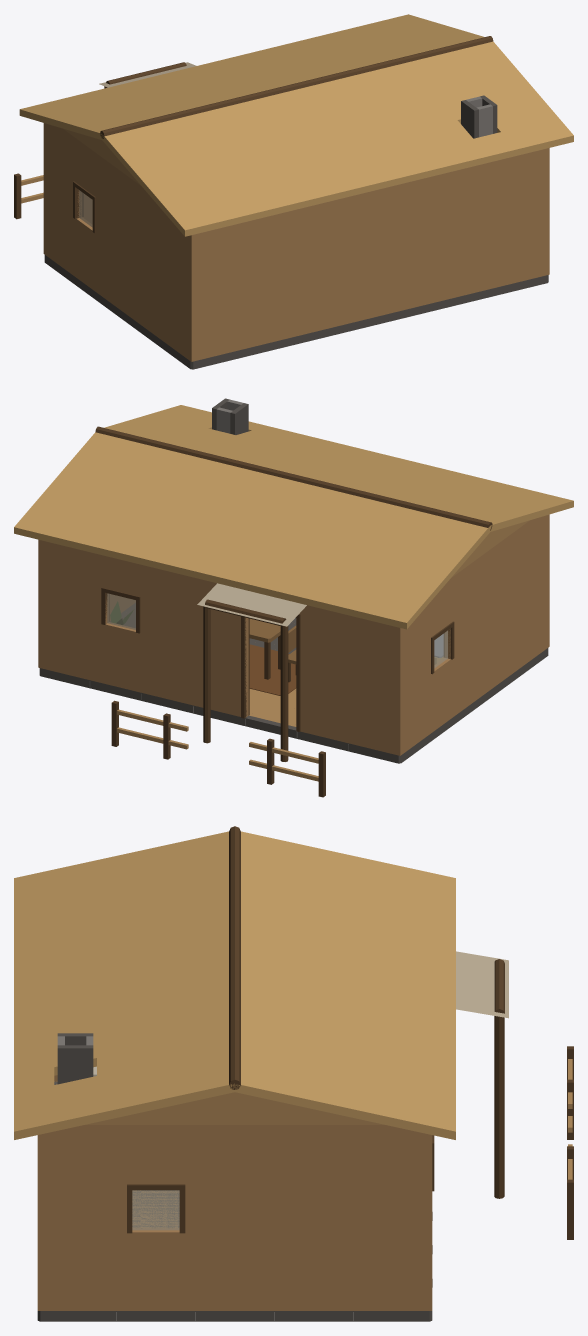
File: SM_CASA_05_CASA_VECINO_ALTA.glb
The picture shows the model from 3 angles, top to bottom: view 1: azimuth 30°, elevation 25°; view 2: azimuth 150°, elevation 25°; view 3: azimuth 270°, elevation 25°; orthographic projection. The views are drawn at different scales.
Visible parts, largest first — view 1: SM_Techo_Izq, SM_Pared_Norte, SM_Pared_Oeste, SM_Techo_Der, SM_Cimiento, SM_Cumbrera, SM_Cocina, SM_Portico, SM_Valla_Patio, SM_Pared_Sur; view 2: SM_Techo_Der, SM_Pared_Sur, SM_Pared_Oeste, SM_Techo_Izq, SM_Cimiento, SM_Portico, SM_Valla_Patio, SM_Cumbrera, SM_Suelo, SM_Cocina, SM_Mesa_Sillas, SM_Pared_Este; view 3: SM_Pared_Este, SM_Techo_Der, SM_Techo_Izq, SM_Cimiento, SM_Portico, SM_Cumbrera, SM_Cocina, SM_Valla_Patio, SM_Suelo, SM_Pared_Sur, SM_Pared_Norte.
Part boxes in pixels (x1,y1,x2,y2): SM_Techo_Izq: (102, 41, 573, 236); SM_Pared_Norte: (188, 148, 549, 361); SM_Pared_Oeste: (43, 123, 197, 361); SM_Techo_Der: (19, 14, 484, 139); SM_Cimiento: (44, 255, 548, 369); SM_Cumbrera: (100, 36, 493, 138); SM_Cocina: (461, 95, 497, 138); SM_Portico: (99, 62, 196, 88); SM_Valla_Patio: (14, 173, 43, 219); SM_Pared_Sur: (43, 132, 92, 255); SM_Techo_Der: (14, 432, 490, 629); SM_Pared_Sur: (38, 539, 403, 754); SM_Pared_Oeste: (394, 515, 549, 755); SM_Techo_Izq: (104, 405, 573, 531); SM_Cimiento: (39, 603, 548, 763); SM_Portico: (197, 583, 306, 761); SM_Valla_Patio: (111, 700, 325, 797); SM_Cumbrera: (95, 426, 492, 530); SM_Suelo: (249, 644, 296, 726); SM_Cocina: (110, 398, 248, 624); SM_Mesa_Sillas: (249, 618, 296, 682); SM_Pared_Este: (38, 540, 135, 668); SM_Pared_Este: (37, 1092, 432, 1310); SM_Techo_Der: (235, 831, 455, 1139); SM_Techo_Izq: (14, 831, 234, 1139); SM_Cimiento: (37, 1081, 432, 1321); SM_Portico: (456, 951, 508, 1198); SM_Cumbrera: (229, 826, 240, 1089); SM_Cocina: (57, 1033, 93, 1084); SM_Valla_Patio: (567, 1046, 573, 1239); SM_Suelo: (56, 1084, 179, 1227); SM_Pared_Sur: (423, 1133, 434, 1310); SM_Pared_Norte: (37, 1133, 46, 1310).
Bounding box in the file's own units: 7.6 × 3.52 × 7.1.
